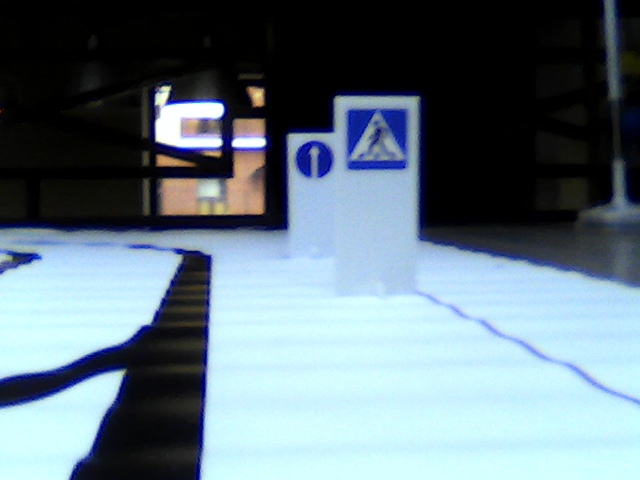forw: (293, 142, 333, 180)
pesh: (347, 107, 408, 171)
